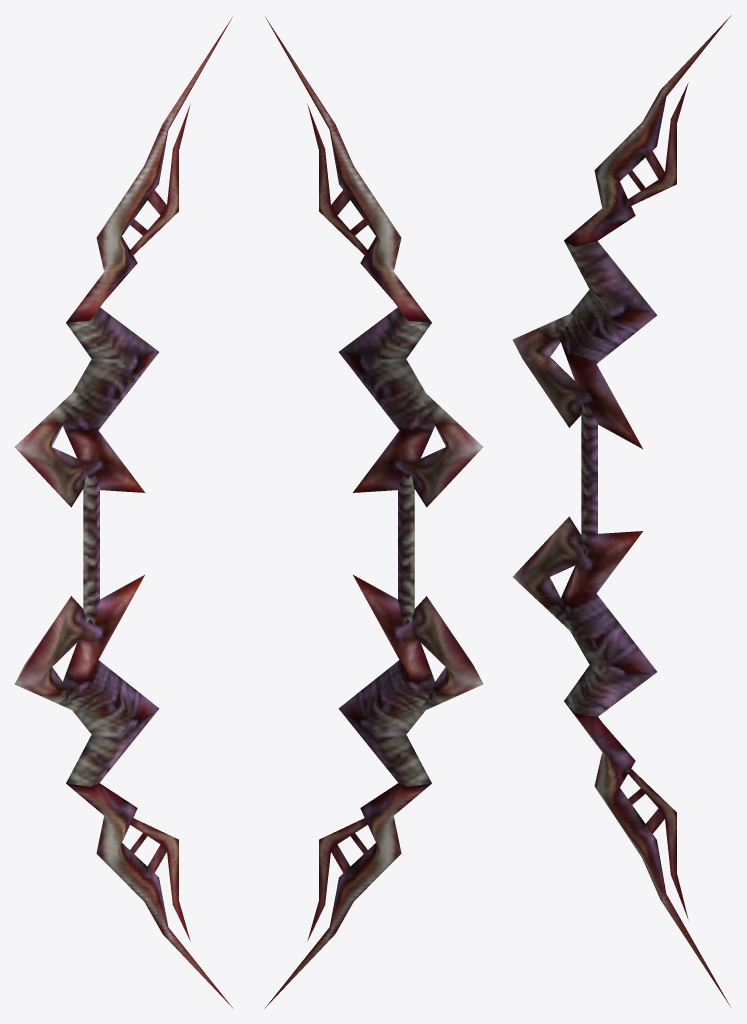
Rendered from wlb_0020-original.glb.
The picture shows the model from 3 angles, left to right: view 1: azimuth 30°, elevation 25°; view 2: azimuth 150°, elevation 25°; view 3: azimuth 330°, elevation 25°; orthographic projection.
Bounding box in the file's own units: 0.46 × 1.99 × 0.0699.
Materials: 1 (1 with a texture image).
